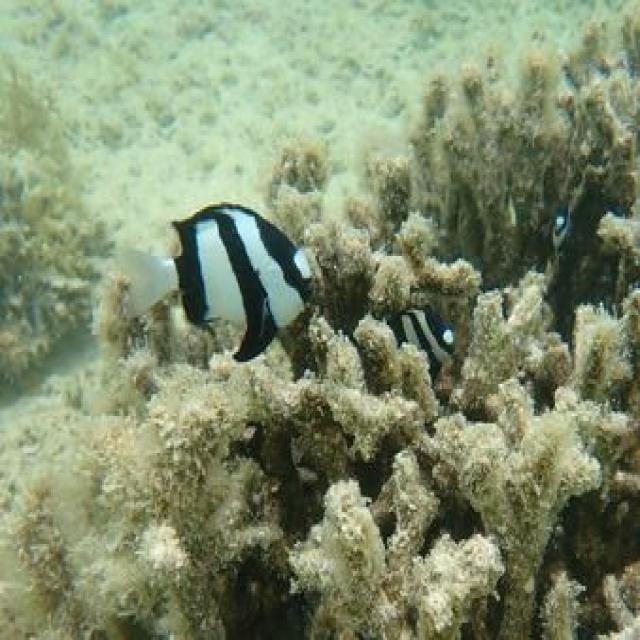Three_striped DasmselFish: (107, 201, 314, 366), (386, 304, 453, 363)
